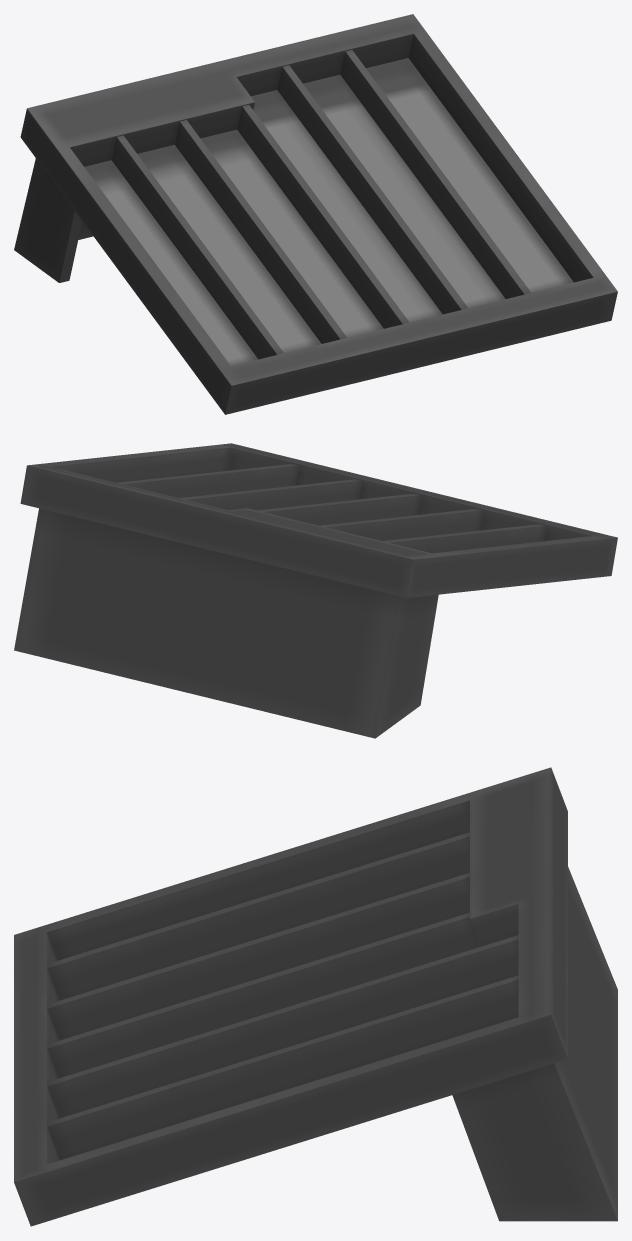
File: jsf_CoinCounter_01.fbx
3 renders of one model, top to bottom at view 1: azimuth 30°, elevation 25°; view 2: azimuth 150°, elevation 25°; view 3: azimuth 270°, elevation 25°, orthographic. The views are drawn at different scales.
Parts seen in each view (by area): view 1: jsf_CoinCounter_01; view 2: jsf_CoinCounter_01; view 3: jsf_CoinCounter_01.
Boxes of the visible parts, left/top/right/bottom form: jsf_CoinCounter_01: left=14, top=14, right=617, bottom=414; jsf_CoinCounter_01: left=14, top=443, right=617, bottom=738; jsf_CoinCounter_01: left=14, top=767, right=617, bottom=1226.
Size of the model in its own units: 17 by 6.87 by 17.54.
